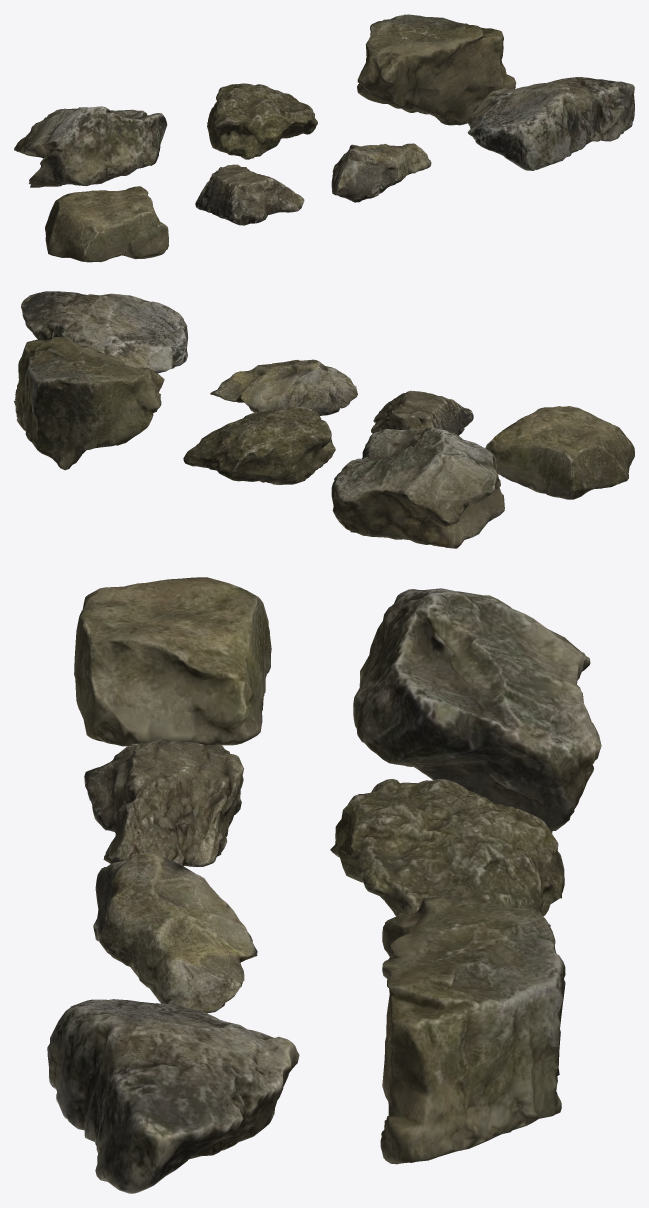
The model's file is rock_moss_set_02.glb.
The picture shows the model from 3 angles, top to bottom: view 1: azimuth 30°, elevation 25°; view 2: azimuth 150°, elevation 25°; view 3: azimuth 270°, elevation 25°; orthographic projection. The views are drawn at different scales.
Parts seen in each view (by area): view 1: rock_moss_set_02_rock08; view 2: rock_moss_set_02_rock08; view 3: rock_moss_set_02_rock08.
Boxes of the visible parts, x1,y1,x2,y2 form: rock_moss_set_02_rock08: (14,14,634,262); rock_moss_set_02_rock08: (14,291,634,548); rock_moss_set_02_rock08: (47,577,601,1193).
Bounding box in the file's own units: 8.28 × 1.37 × 3.41.
Materials: 1 (1 with a texture image).
